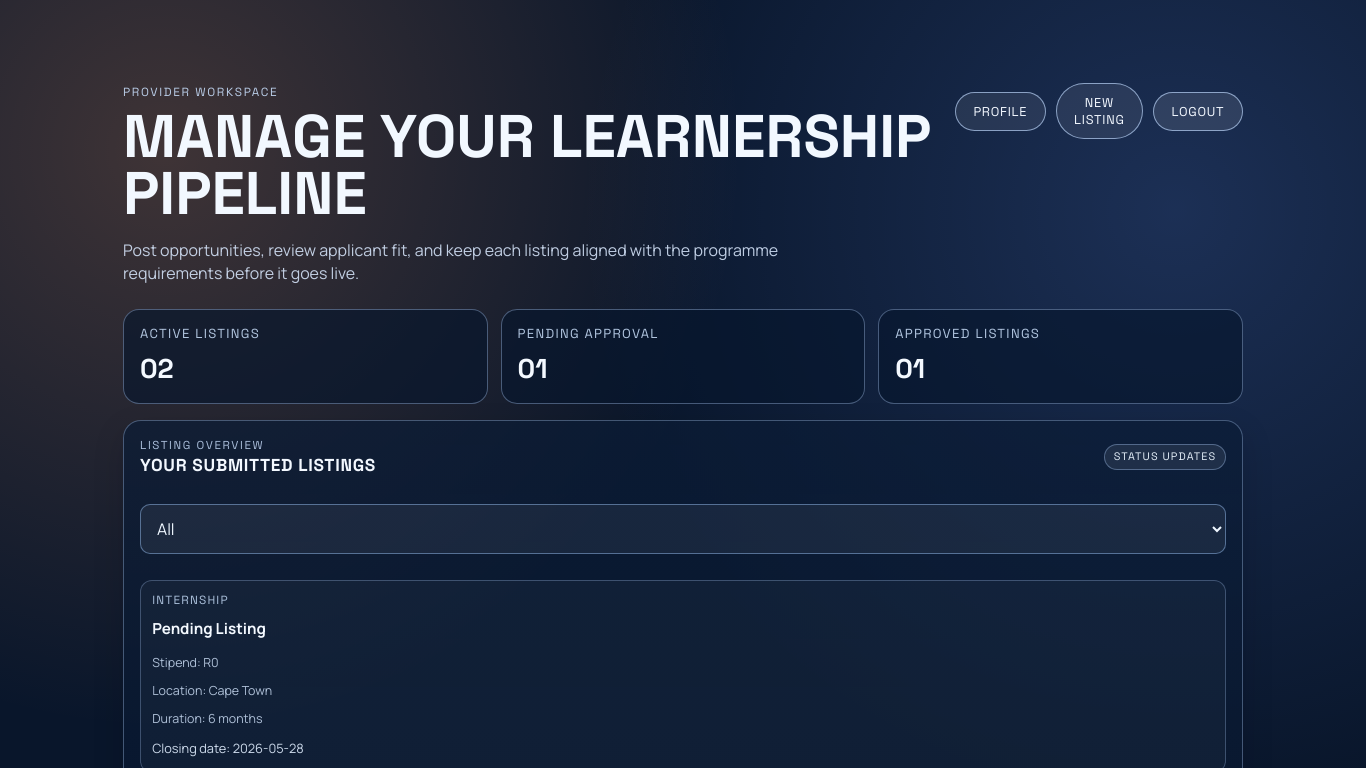
Test: Provider Post a Listing acceptance tests › 10. Provider dashboard filters listings by status without leaving the page
The width and height of the screenshot is (1366, 768).
Expected: the text "Pending Listing" is shown, left=152, top=618, right=266, bottom=639
Select "Approved" in the dropdown named "Filter listings by status" at (683, 529), box left=140, top=504, right=1226, bottom=554
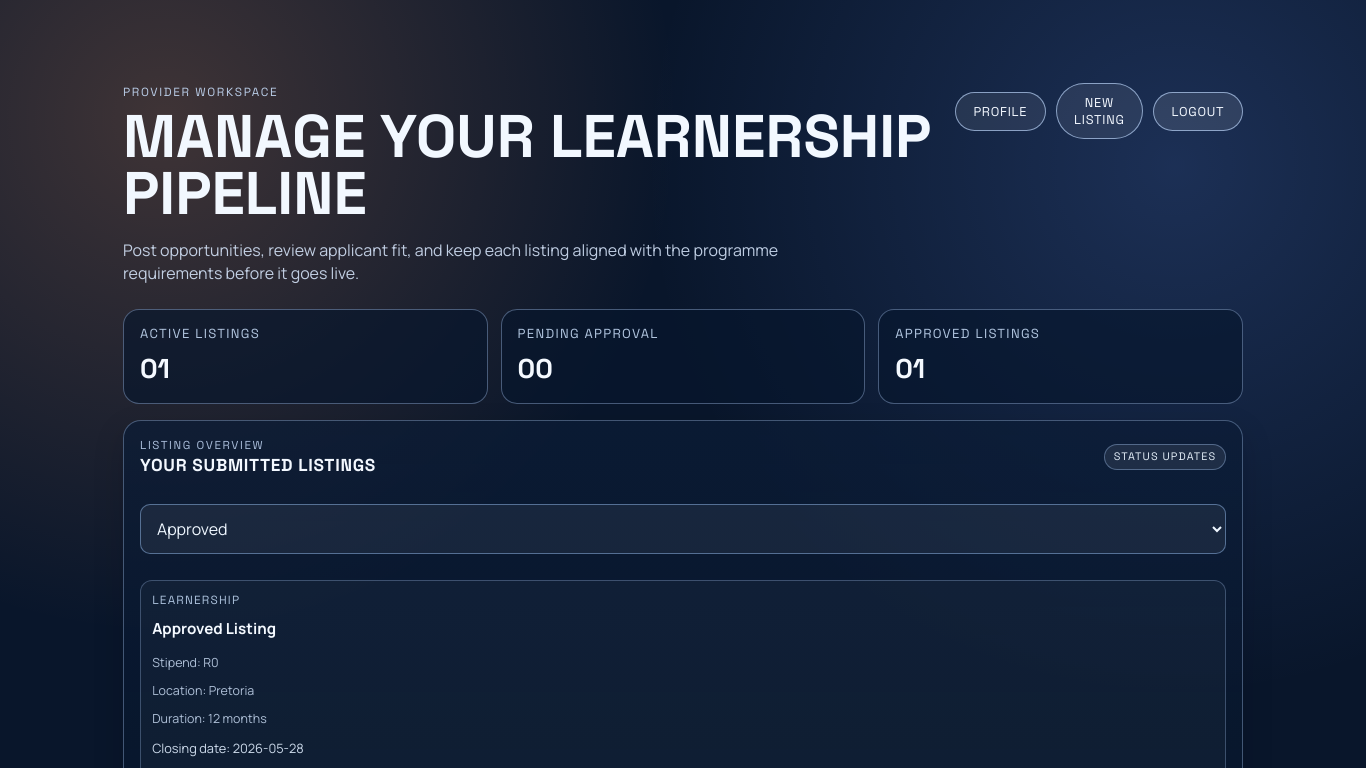
Expected: the text "Approved Listing" is shown, left=152, top=618, right=276, bottom=639
Expected: the text "Pending Listing" is gone
Select "Declined" in the dropdown named "Filter listings by status" at (683, 529), box left=140, top=504, right=1226, bottom=554
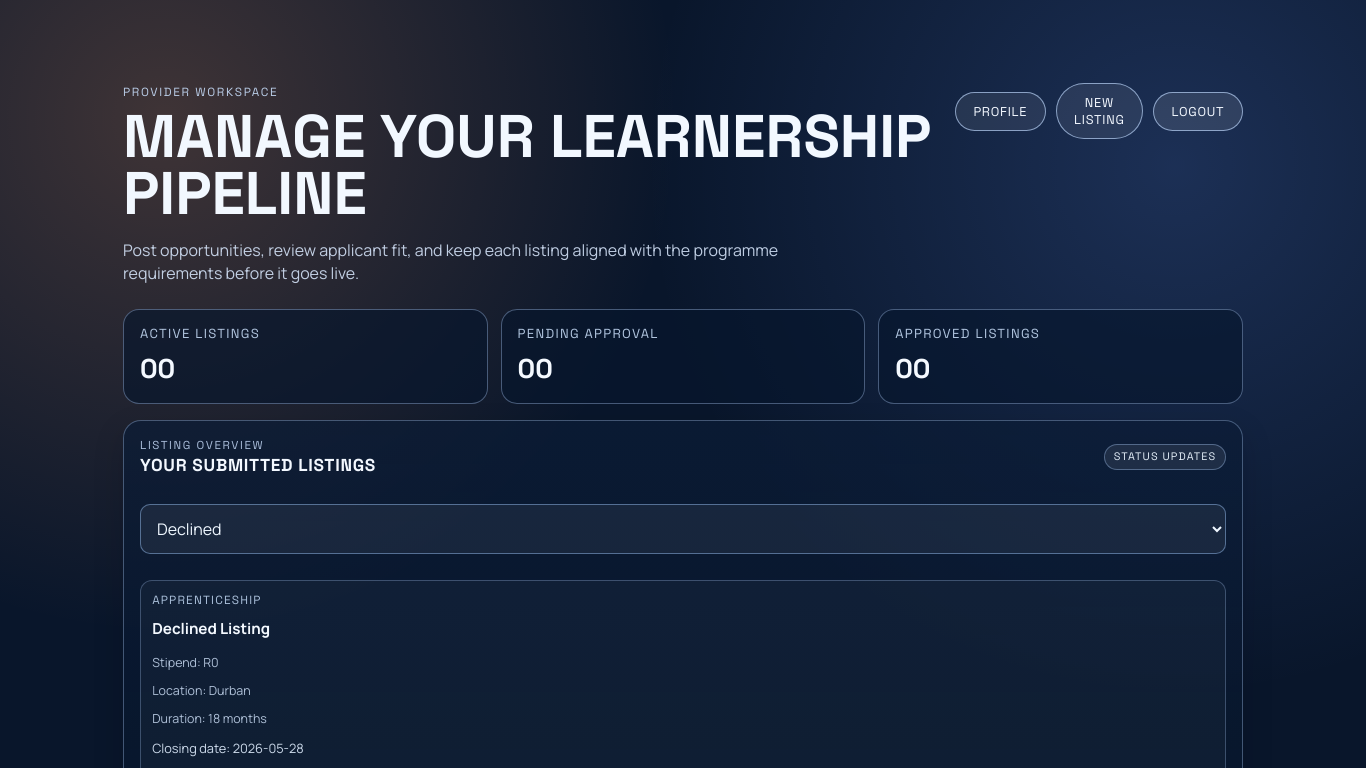
Expected: the text "Pending Listing" is not shown
Expected: the text "Declined Listing" is shown, left=152, top=618, right=270, bottom=639
